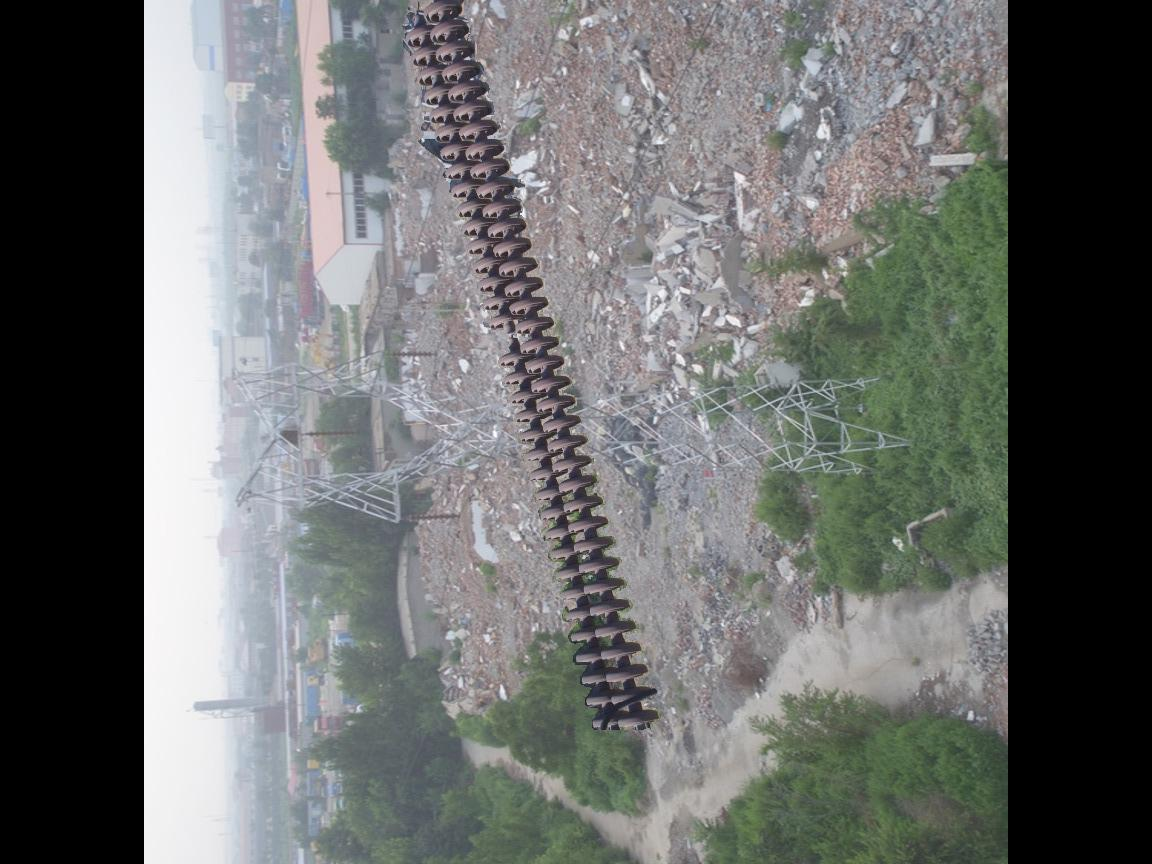insulator: (400, 1, 661, 740)
insulator_stringdrop: (488, 311, 530, 371)
